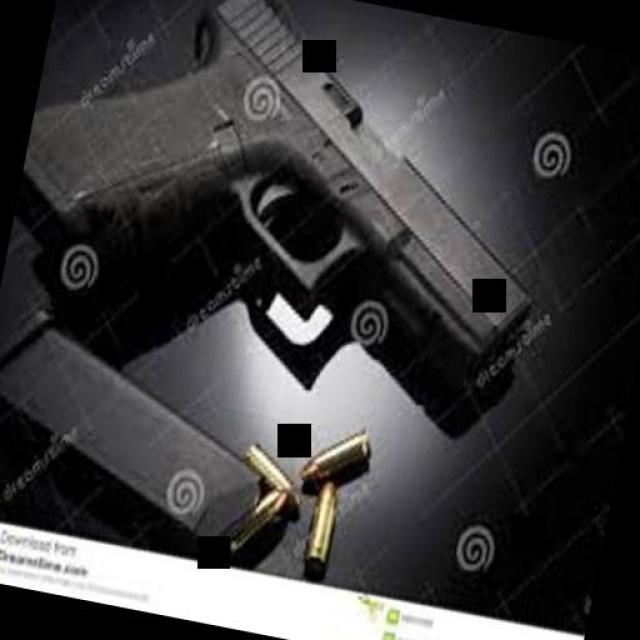gun: (0, 0, 575, 462)
